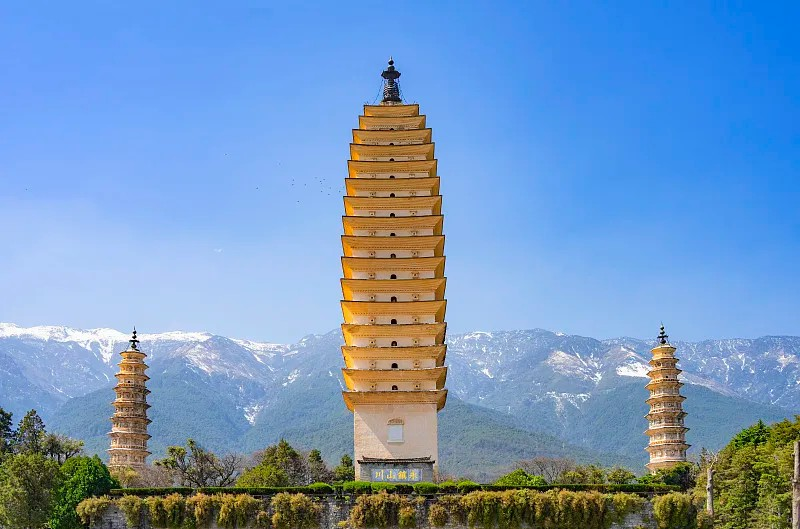ThreePagoda: (339, 56, 448, 484)
